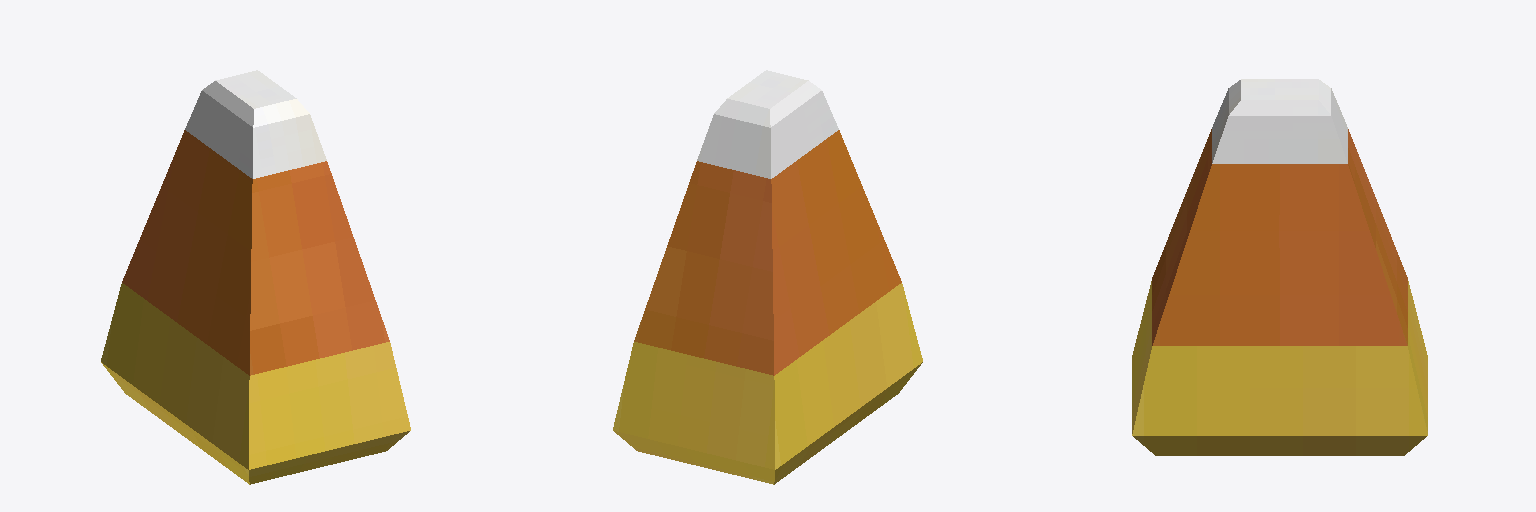
The picture shows the model from 3 angles: view 1: azimuth 30°, elevation 25°; view 2: azimuth 150°, elevation 25°; view 3: azimuth 270°, elevation 25°; orthographic projection.
Parts seen in each view (by area): view 1: Cube.008_Cube.006; view 2: Cube.008_Cube.006; view 3: Cube.008_Cube.006.
Part boxes in pixels (x1,y1,x2,y2): Cube.008_Cube.006: (101,70,410,484); Cube.008_Cube.006: (613,70,922,484); Cube.008_Cube.006: (1132,79,1427,455).
Size of the model in its own units: 0.1592 by 0.311 by 0.2504.
1 materials, 1 textured.